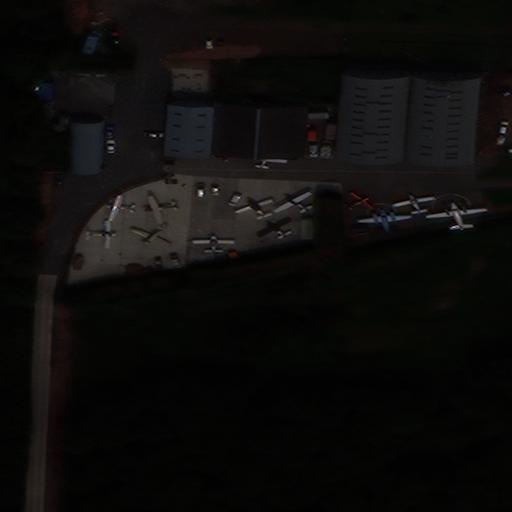Small Civil Transport: (425, 202, 486, 231), (357, 208, 411, 235), (84, 220, 119, 249), (143, 196, 179, 223), (390, 194, 434, 214), (130, 227, 170, 247), (191, 235, 235, 253), (272, 190, 308, 211), (106, 195, 135, 220), (234, 198, 270, 218), (255, 216, 287, 237), (346, 191, 373, 208)
